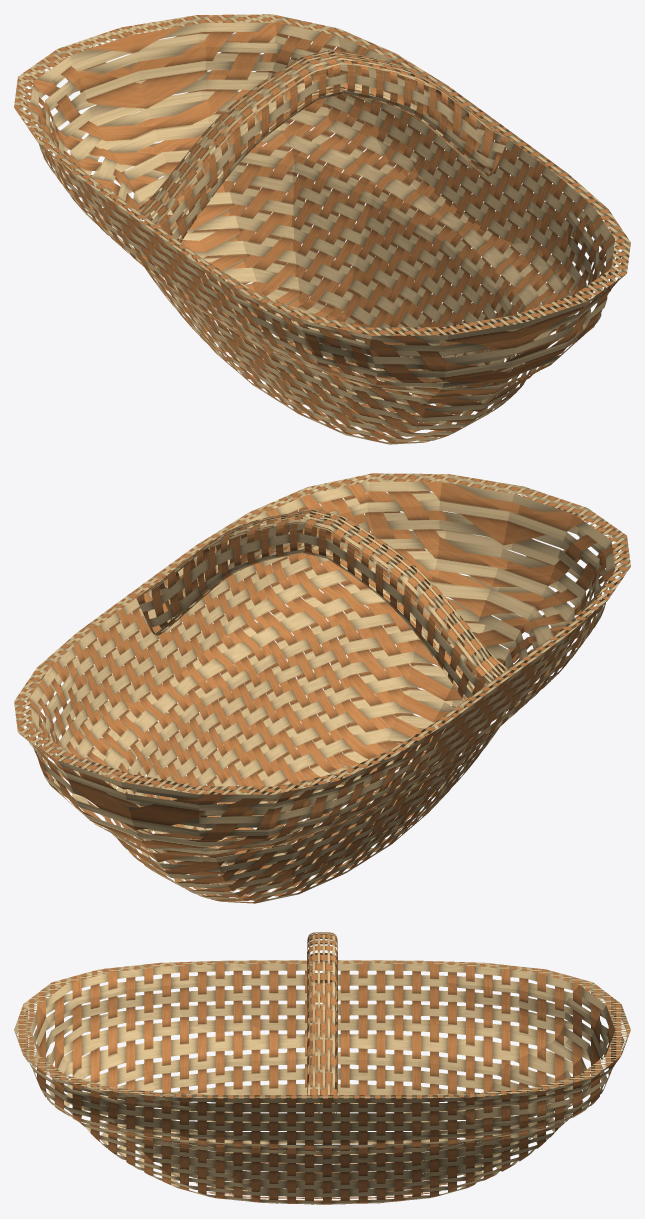
The model's file is Wicker basket.fbx.
3 renders of one model, top to bottom at view 1: azimuth 30°, elevation 25°; view 2: azimuth 150°, elevation 25°; view 3: azimuth 270°, elevation 25°, orthographic. The views are drawn at different scales.
Visible parts, largest first — view 1: Cube.003, Cube.006, Cube.018, Cube.017, Cube.016, Cube.004, Cube.013, Cube.011, Cube.005, Cube.010, Cube.012, Cube.014 (+12 smaller); view 2: Cube.003, Cube.006, Cube.009, Cube.008, Cube.007, Cube.005, Cube.010, Cube.014, Cube.013, Cube.015, Cube.004, Cube.011 (+12 smaller); view 3: Cube.004, Cube.005, Cube.003, Cube.006, Cube.015, Cube.012, Cube.009, Cube.018, Cube.014, Cube.011, Cube.017, Cube.008 (+8 smaller).
Boxes of the visible parts, box(x1,y1,x2,y2) form: Cube.003: box(326, 28, 517, 344); Cube.006: box(394, 137, 630, 380); Cube.018: box(267, 14, 372, 326); Cube.017: box(196, 14, 303, 312); Cube.016: box(121, 15, 262, 309); Cube.004: box(148, 225, 317, 413); Cube.013: box(58, 27, 241, 315); Cube.011: box(346, 327, 448, 444); Cube.005: box(14, 107, 267, 388); Cube.010: box(378, 315, 523, 444); Cube.012: box(270, 314, 377, 434); Cube.014: box(18, 49, 224, 340); Cube.003: box(14, 580, 263, 840); Cube.006: box(148, 487, 318, 803); Cube.009: box(271, 473, 376, 787); Cube.008: box(341, 473, 448, 773); Cube.007: box(380, 474, 523, 772); Cube.005: box(326, 669, 518, 872); Cube.010: box(408, 486, 586, 777); Cube.014: box(196, 786, 302, 903); Cube.013: box(121, 774, 269, 903); Cube.015: box(267, 773, 373, 893); Cube.004: box(383, 567, 629, 843); Cube.011: box(419, 508, 626, 796); Cube.004: box(99, 960, 322, 1155); Cube.005: box(306, 960, 545, 1155); Cube.003: box(306, 1087, 545, 1204); Cube.006: box(99, 1087, 322, 1204); Cube.015: box(385, 969, 592, 1160); Cube.012: box(52, 969, 261, 1159); Cube.009: box(52, 1075, 262, 1202); Cube.018: box(382, 1075, 592, 1202); Cube.014: box(422, 982, 620, 1169); Cube.011: box(24, 982, 229, 1164); Cube.017: box(421, 1054, 620, 1196); Cube.008: box(24, 1054, 232, 1196).
Size of what is drawn, in the model's own units: 141 by 117 by 265.
